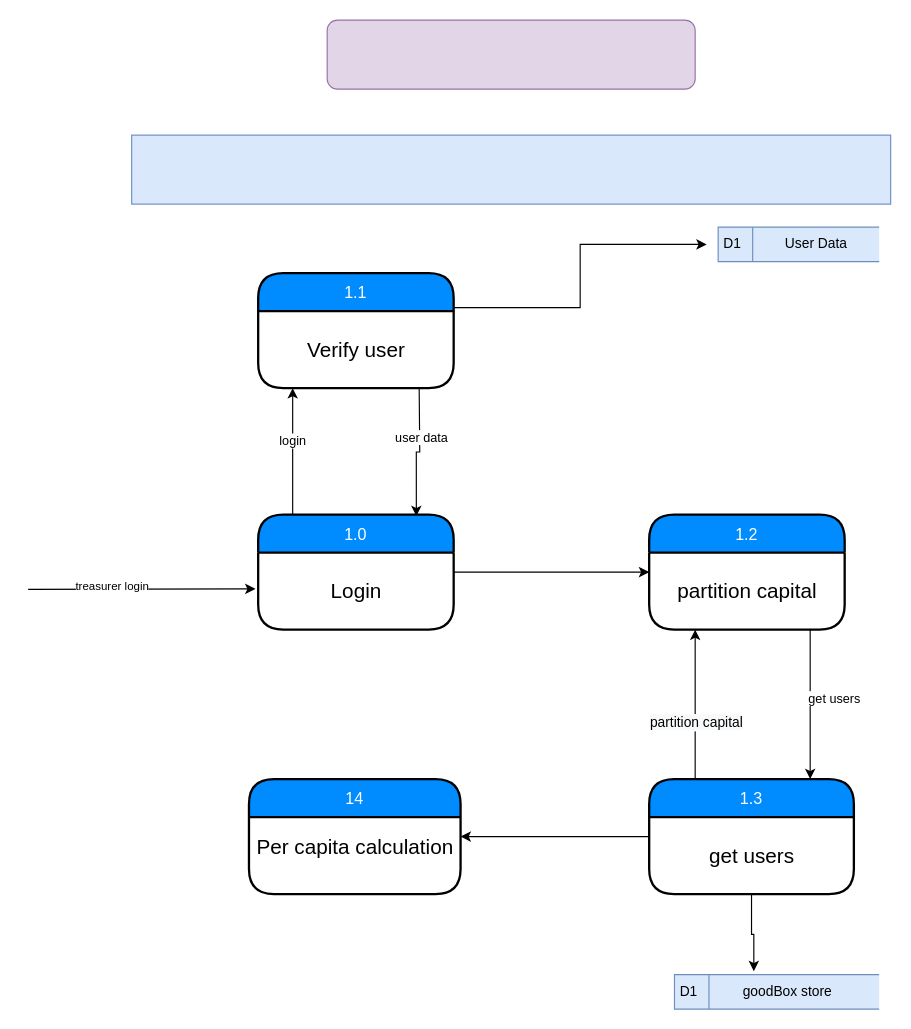
This 911x1029 diagram has some shape labels left out. The centre of each missing label's shape, as x and y in pixels:
"DFD Diagram" goes at [510,54].
"Level 1" goes at [511,169].
